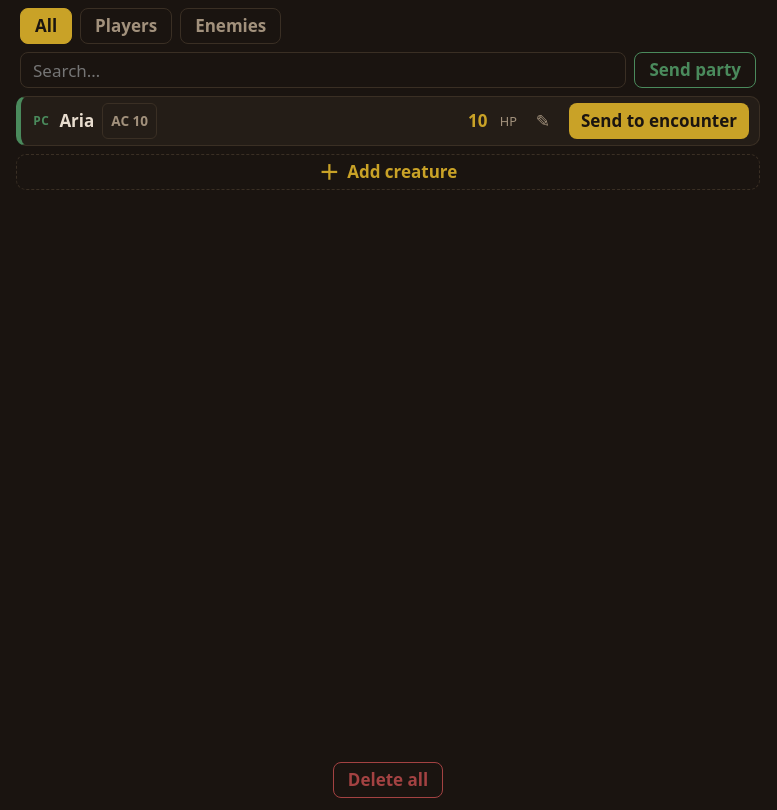
CatalogPage party › sends the party and closes the panel
The width and height of the screenshot is (777, 810).
Click the button "Send party": point(695, 70) [634, 52, 756, 88]
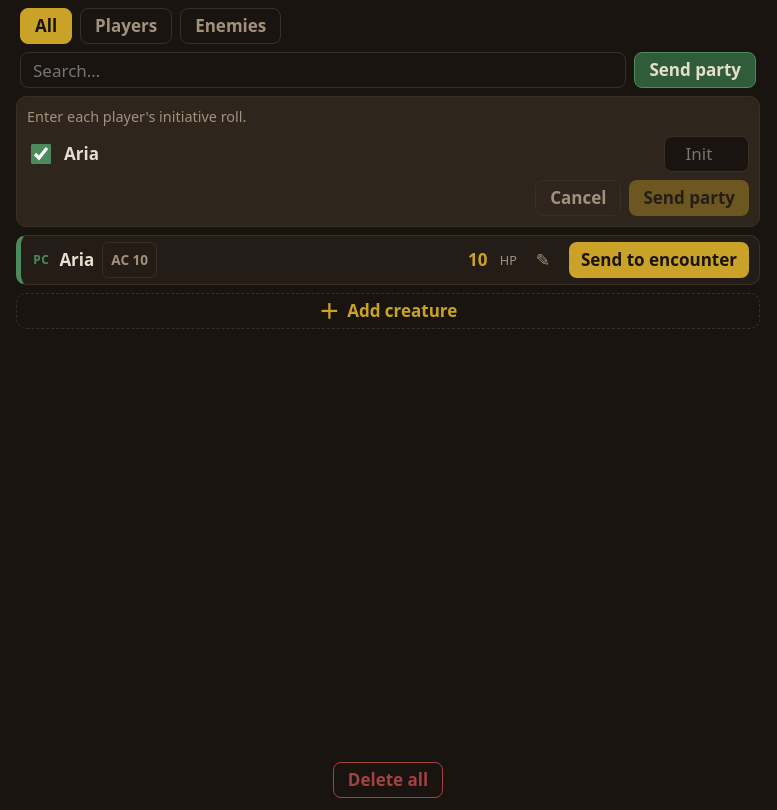
In the number field named "Initiative for Aria": point(706, 154) [664, 136, 749, 172], type "12"
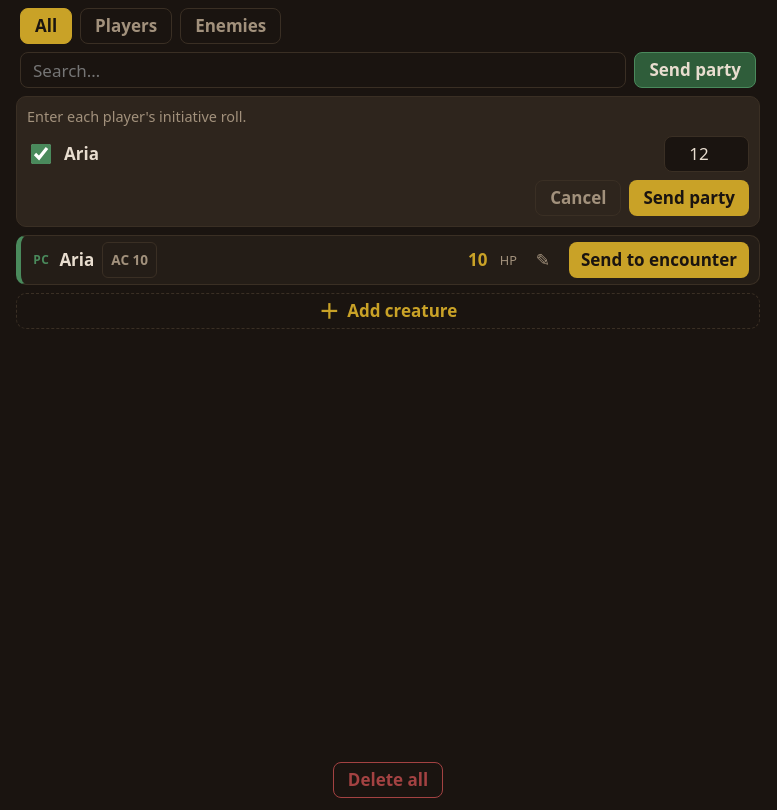
Click the 2nd button "Send party": point(689, 198) [629, 180, 749, 216]
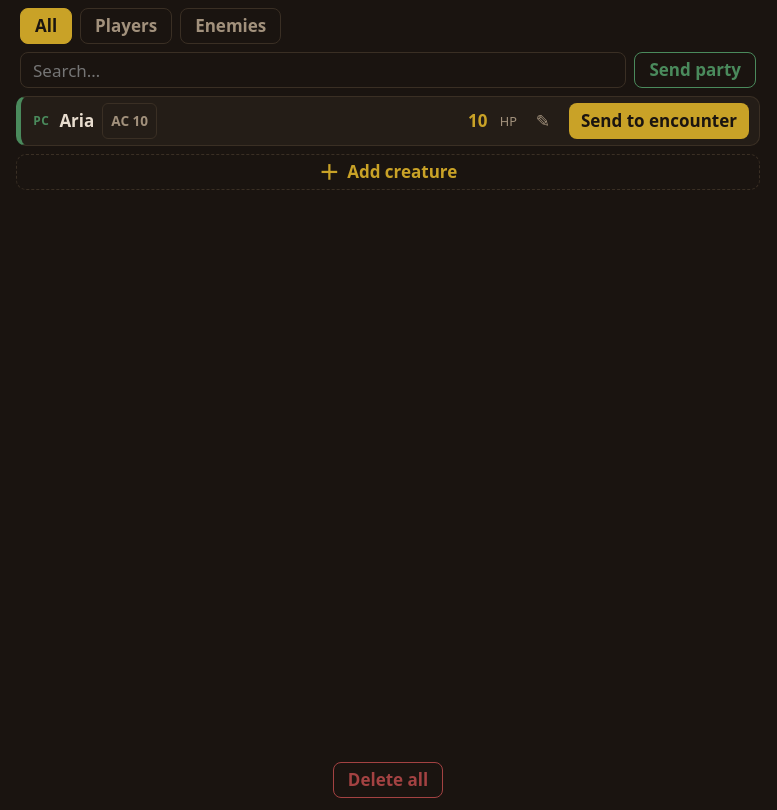
Expected: the number field labelled "Initiative for Aria" is gone
